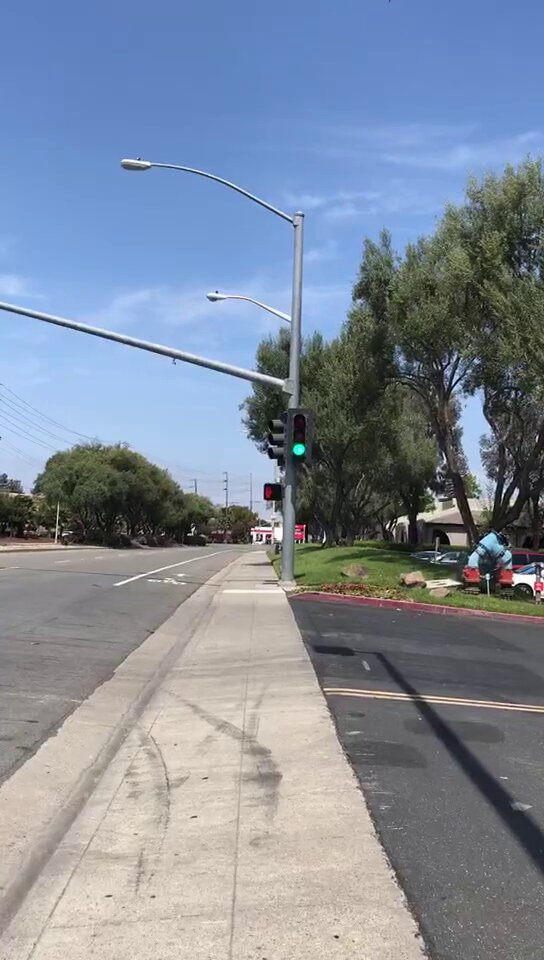green_light: (287, 410, 314, 457)
